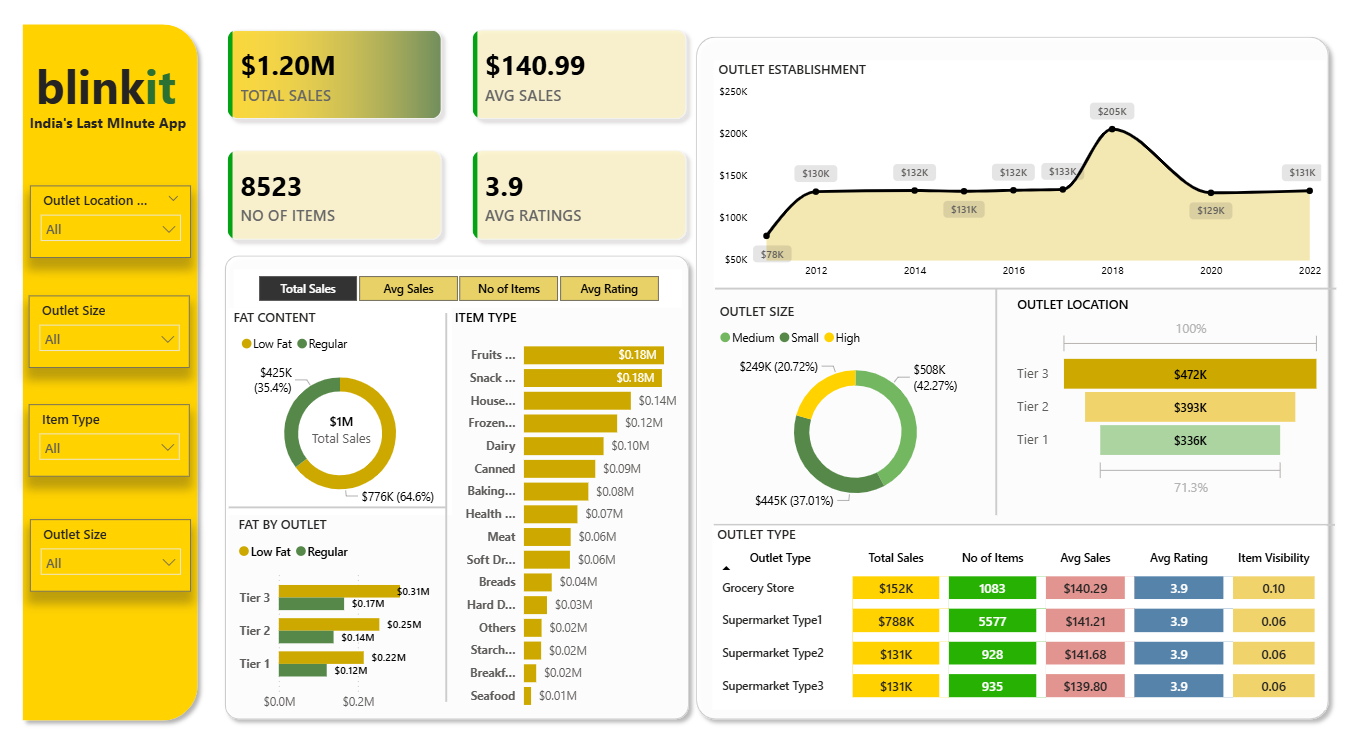

This screenshot's page, from the dashboard's own definition file:
{"tool":"powerbi","page":{"name":"Page 1","canvas":[1400,800],"ordinal":0},"visuals":[{"type":"shape","box":[14.3,23.4,200,741.6],"z":0},{"type":"textbox","box":[33.1,58.5,162.8,87.8],"z":1000},{"type":"textbox","box":[26,119.5,181.8,37.7],"z":2000},{"type":"cardVisual","fields":{"Data":["BlinkIT Grocery Data.Total Sales","BlinkIT Grocery Data.Avg Sales","BlinkIT Grocery Data.No of Items","BlinkIT Grocery Data.Avg Rating"]},"box":[207.8,9.1,535.1,276.6],"z":3000},{"type":"shape","box":[224.4,264.1,500,500],"z":4000},{"type":"donutChart","title":"FAT CONTENT","fields":{"Y":["BlinkIT Grocery Data.Total Sales"],"Category":["BlinkIT Grocery Data.Item Fat Content"]},"box":[237.6,327.1,231.8,215.3],"z":5000},{"type":"slicer","fields":{"Values":["Metrics.Metrics"]},"box":[242.3,287.2,465.4,39.7],"z":6000},{"type":"cardVisual","fields":{"Data":["BlinkIT Grocery Data.Total Sales"]},"box":[292.2,418.2,126,70.1],"z":7000},{"type":"clusteredBarChart","title":"FAT BY OUTLET","fields":{"Y":["BlinkIT Grocery Data.Total Sales"],"Category":["BlinkIT Grocery Data.Outlet Location Type"],"Series":["BlinkIT Grocery Data.Item Fat Content"]},"box":[242.9,542.9,226,211.7],"z":8000},{"type":"shape","box":[237.7,502.6,226,63.6],"z":9000},{"type":"shape","box":[446.8,332.5,33.8,403.9],"z":10000},{"type":"barChart","title":"ITEM TYPE","fields":{"Y":["BlinkIT Grocery Data.Total Sales"],"Category":["BlinkIT Grocery Data.Item Type"]},"box":[467.5,327.3,257.1,427.3],"z":11000},{"type":"shape","box":[714.3,36.4,675.3,727.3],"z":12000},{"type":"lineChart","title":"OUTLET ESTABLISHMENT ","fields":{"Y":["BlinkIT Grocery Data.Total Sales"],"Category":["BlinkIT Grocery Data.Outlet Establishment Year"]},"box":[741.6,70.1,636.4,235.1],"z":13000},{"type":"shape","box":[742.9,275.3,645.5,63.6],"z":14000},{"type":"donutChart","title":"OUTLET SIZE","fields":{"Y":["BlinkIT Grocery Data.Total Sales"],"Category":["BlinkIT Grocery Data.Outlet Size"]},"box":[742.9,320.8,292.2,224.7],"z":15000},{"type":"shape","box":[1018.2,306.5,33.8,236.4],"z":16000},{"type":"funnel","title":"OUTLET LOCATION","fields":{"Y":["BlinkIT Grocery Data.Total Sales"],"Category":["BlinkIT Grocery Data.Outlet Location Type"]},"box":[1051.9,314.3,326,214.3],"z":17000},{"type":"shape","box":[741.6,520.8,645.5,63.6],"z":18000},{"type":"pivotTable","title":"OUTLET TYPE","fields":{"Rows":["BlinkIT Grocery Data.Outlet Type"],"Values":["BlinkIT Grocery Data.Total Sales","BlinkIT Grocery Data.No of Items","BlinkIT Grocery Data.Avg Sales","BlinkIT Grocery Data.Avg Rating","Avg(BlinkIT Grocery Data.Item Visibility)"]},"box":[740.3,553.2,637.7,190.9],"z":19000},{"type":"slicer","fields":{"Values":["BlinkIT Grocery Data.Outlet Location Type"]},"box":[31.2,200,167.5,75.3],"z":20000},{"type":"slicer","fields":{"Values":["BlinkIT Grocery Data.Outlet Size"]},"box":[29.9,314.3,167.5,75.3],"z":21000},{"type":"slicer","fields":{"Values":["BlinkIT Grocery Data.Item Type"]},"box":[29.9,427.3,167.5,75.3],"z":22000},{"type":"slicer","fields":{"Values":["BlinkIT Grocery Data.Outlet Size"]},"box":[31.2,546.8,167.5,75.3],"z":22001}]}

Visuals, with their boxes in screenshot pixels (x1, y1, x2, y2), scaled from the page's 1400x800 canvas onto the 1345x751 screenshot:
shape: l=14, t=22, r=206, b=718
textbox: l=32, t=55, r=188, b=137
textbox: l=25, t=112, r=200, b=148
cardVisual - BlinkIT Grocery Data.Total Sales x BlinkIT Grocery Data.Avg Sales: l=200, t=9, r=714, b=268
shape: l=216, t=248, r=696, b=717
"FAT CONTENT" donutChart: l=228, t=307, r=451, b=509
slicer - Metrics.Metrics: l=233, t=270, r=680, b=307
cardVisual - BlinkIT Grocery Data.Total Sales: l=281, t=393, r=402, b=458
"FAT BY OUTLET" clusteredBarChart: l=233, t=510, r=450, b=708
shape: l=228, t=472, r=445, b=532
shape: l=429, t=312, r=462, b=691
"ITEM TYPE" barChart: l=449, t=307, r=696, b=708
shape: l=686, t=34, r=1335, b=717
"OUTLET ESTABLISHMENT " lineChart: l=712, t=66, r=1324, b=287
shape: l=714, t=258, r=1334, b=318
"OUTLET SIZE" donutChart: l=714, t=301, r=994, b=512
shape: l=978, t=288, r=1011, b=510
"OUTLET LOCATION" funnel: l=1011, t=295, r=1324, b=496
shape: l=712, t=489, r=1333, b=549
"OUTLET TYPE" pivotTable: l=711, t=519, r=1324, b=699
slicer - BlinkIT Grocery Data.Outlet Location Type: l=30, t=188, r=191, b=258
slicer - BlinkIT Grocery Data.Outlet Size: l=29, t=295, r=190, b=366
slicer - BlinkIT Grocery Data.Item Type: l=29, t=401, r=190, b=472
slicer - BlinkIT Grocery Data.Outlet Size: l=30, t=513, r=191, b=584
